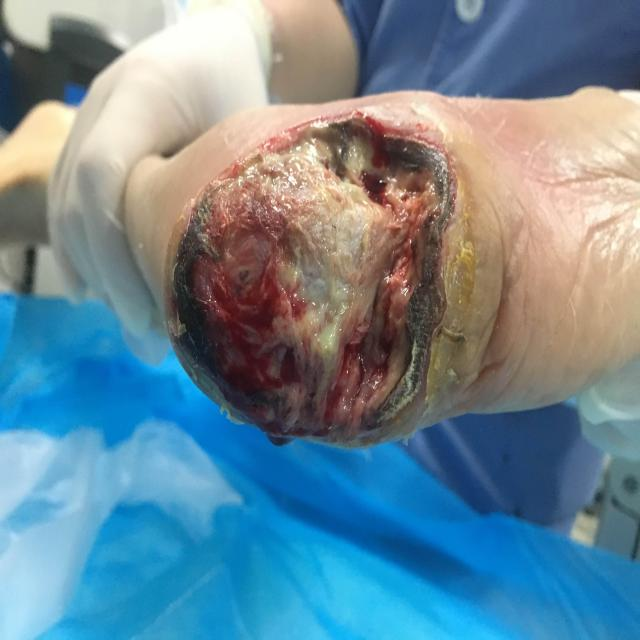stage-4: (166, 117, 455, 445)
